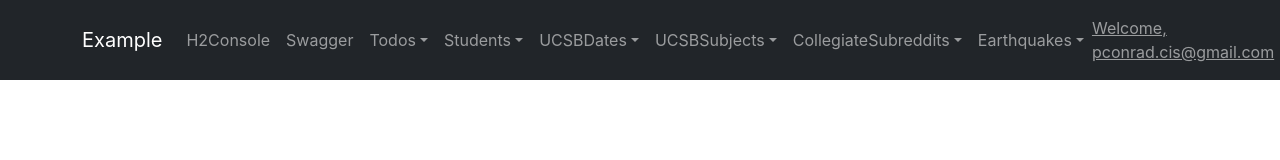
AppNavbar tests › renders the ucsbdates menu correctly for a user
Expected: the element with test id "appnavbar-ucsbdates-dropdown" is shown, left=539, top=30, right=627, bottom=50
Step 1. Click the button "UCSBDates" → (589, 40), box left=531, top=20, right=647, bottom=60
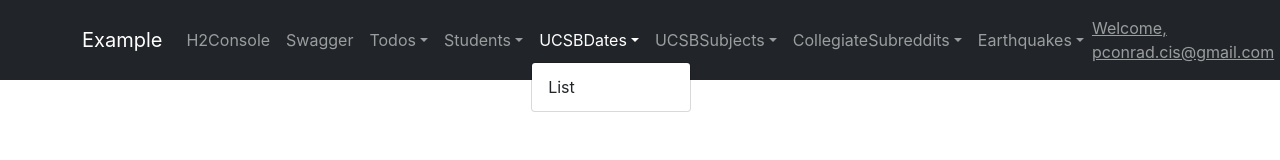
Now the link with test id "appnavbar-ucsbdates-list" is shown, box left=548, top=77, right=575, bottom=97
